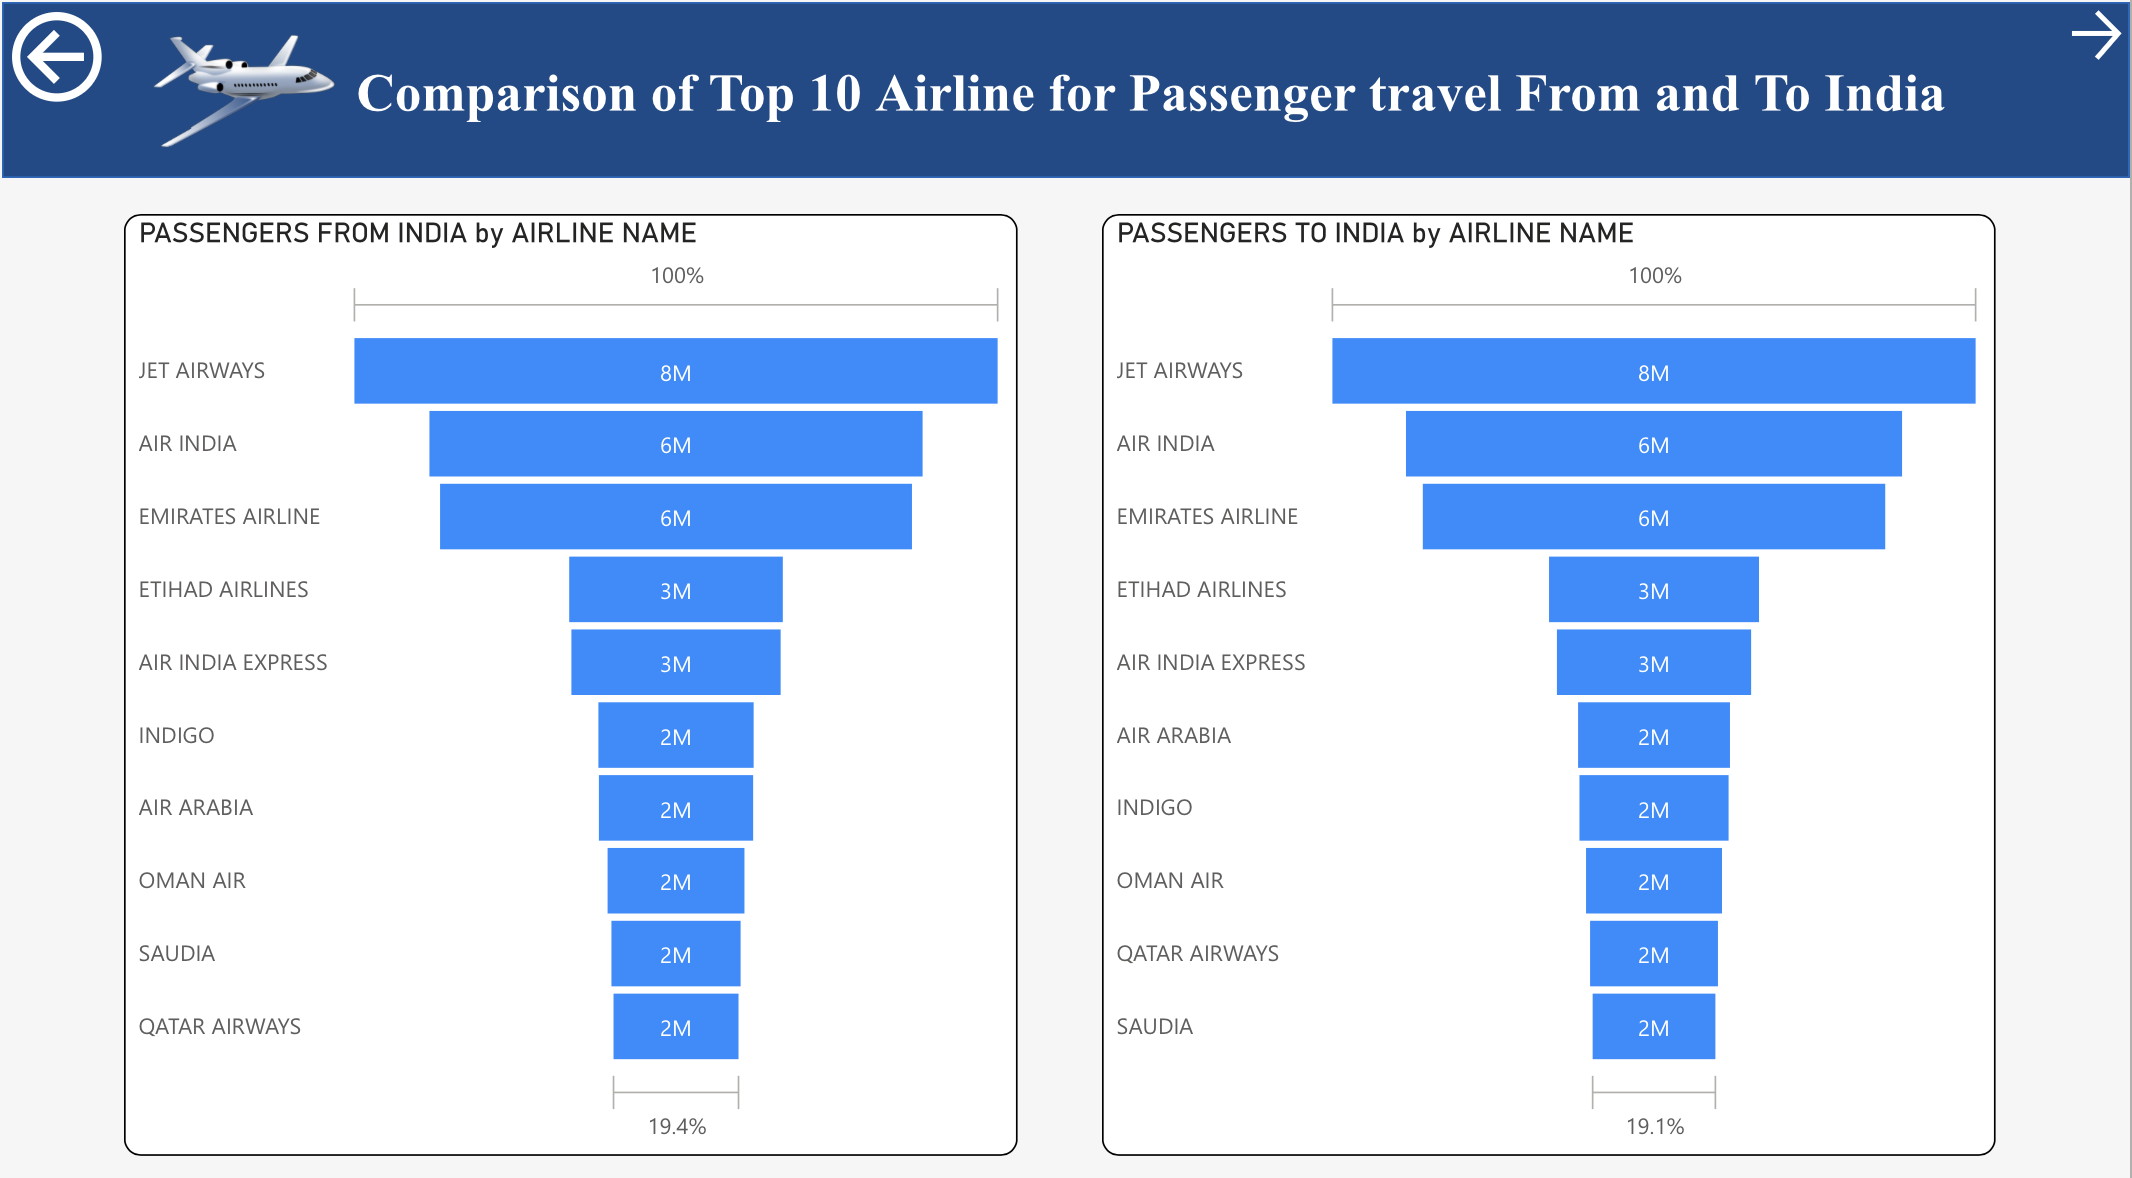

What the dashboard file says about the page in this screenshot:
{"tool":"powerbi","page":{"name":"Top 10 Airline for Passenger travel","canvas":[1280,720],"ordinal":2},"visuals":[{"type":"shape","box":[1.4,10,1278.6,105.8],"z":0},{"type":"funnel","fields":{"Category":["Airlinewise Monthly International Air Traffic.AIRLINE NAME"],"Y":["Sum(Airlinewise Monthly International Air Traffic.PASSENGERS FROM INDIA)"]},"box":[74.2,137.3,537,565.8],"z":1000},{"type":"funnel","fields":{"Category":["Airlinewise Monthly International Air Traffic.AIRLINE NAME"],"Y":["Sum(Airlinewise Monthly International Air Traffic.PASSENGERS TO INDIA)"]},"box":[662,137.3,537,565.8],"z":2000},{"type":"textbox","box":[208.6,41,1071,69.9],"z":3000},{"type":"image","box":[54.3,2.4,185.7,120.6],"z":4000},{"type":"actionButton","box":[1.4,9.6,145.6,65.9],"z":5000},{"type":"actionButton","box":[1238.6,9.6,41,39.8],"z":6000}]}

Visuals, with their boxes in screenshot pixels (x1, y1, x2, y2), scaled from the page's 1280x720 canvas onto the 2132x1178 screenshot:
shape: 2 16 2131 189
funnel - Airlinewise Monthly International Air Traffic.AIRLINE NAME x Sum(Airlinewise Monthly International Air Traffic.PASSENGERS FROM INDIA): 124 225 1018 1150
funnel - Airlinewise Monthly International Air Traffic.AIRLINE NAME x Sum(Airlinewise Monthly International Air Traffic.PASSENGERS TO INDIA): 1103 225 1997 1150
textbox: 347 67 2131 181
image: 90 4 400 201
actionButton: 2 16 245 124
actionButton: 2063 16 2131 81
